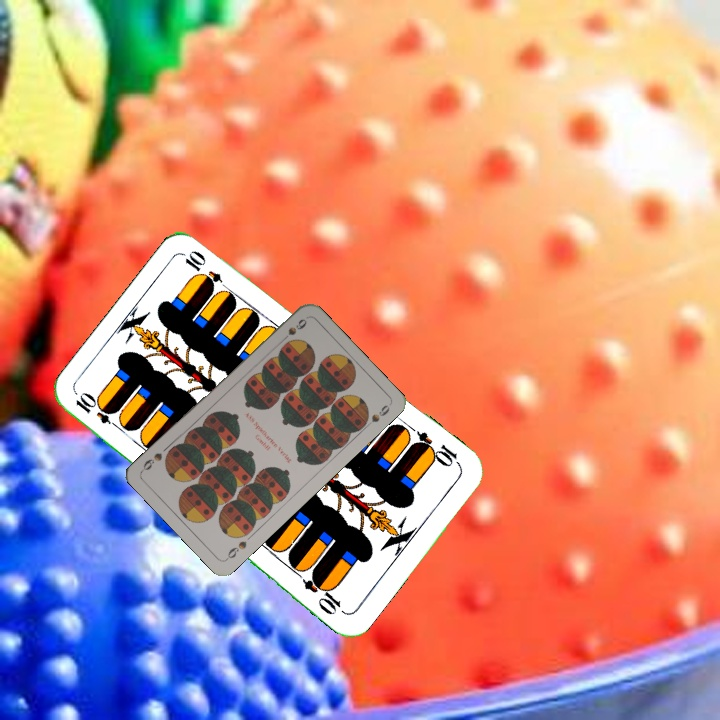E10: (409, 427, 464, 470), (71, 390, 125, 433)
S9: (276, 315, 309, 345), (222, 537, 249, 563)
